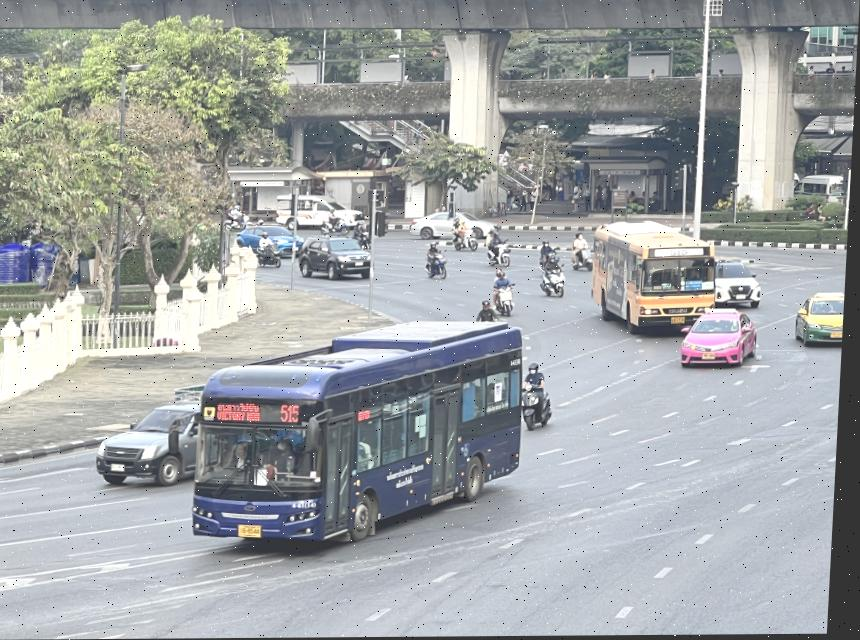BMTA-bus: (580, 223, 720, 339)
Bus Line Number: (282, 399, 307, 425), (670, 250, 693, 256)
Bus Side Number: (297, 500, 323, 510), (694, 316, 703, 323)
Destination Sign: (216, 400, 270, 424), (689, 282, 705, 291)
TSB-Bus: (196, 322, 551, 548)
